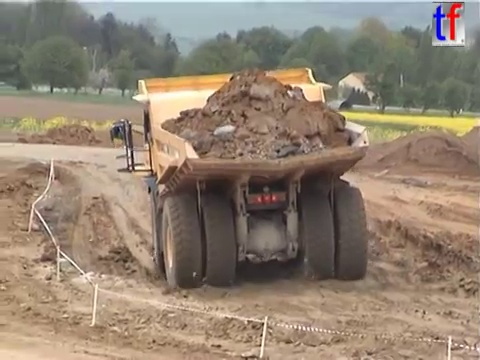truck: (107, 65, 371, 290)
